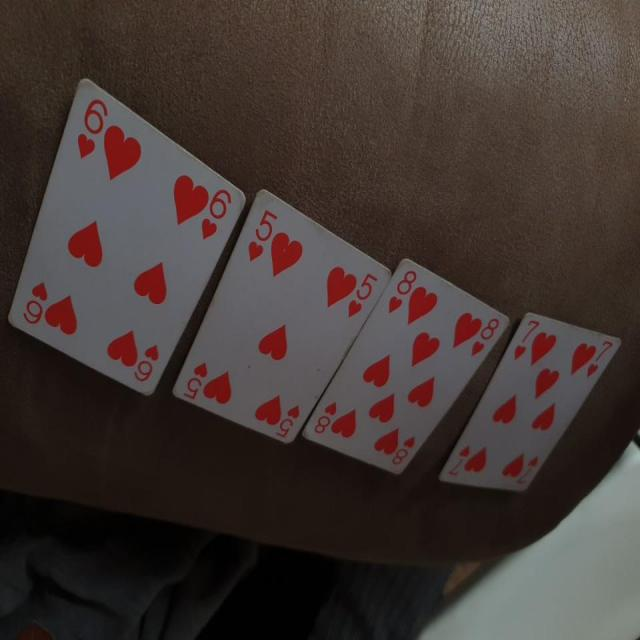5 Hearts: (168, 189, 389, 448)
6 Hearts: (9, 69, 244, 394)
7 Hearts: (440, 306, 621, 508)
8 Hearts: (303, 235, 506, 494)
